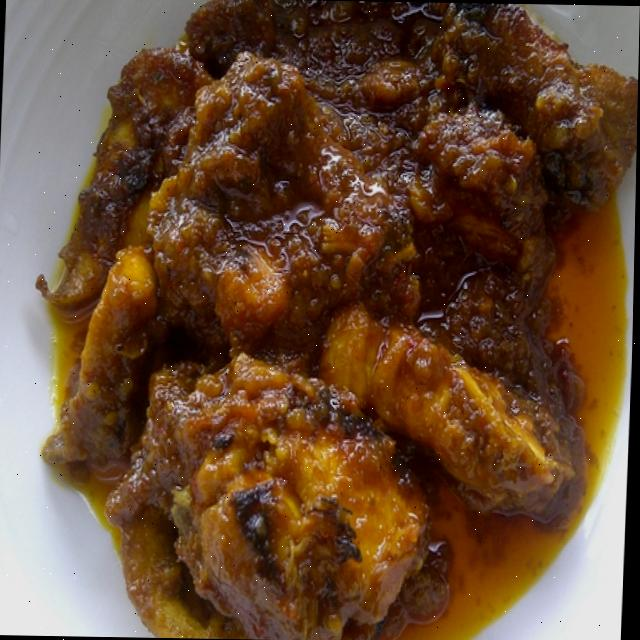鸡肉料理 含炸鸡: (19, 0, 640, 629)
